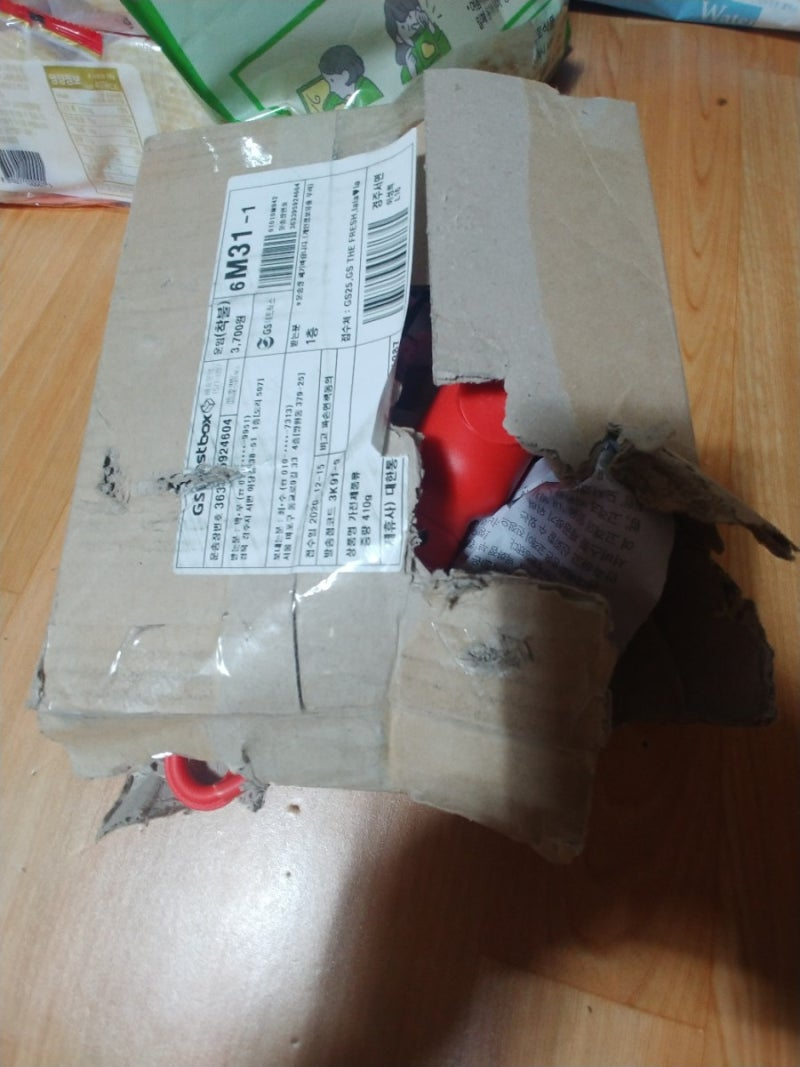damaged package: (338, 109, 797, 731)
